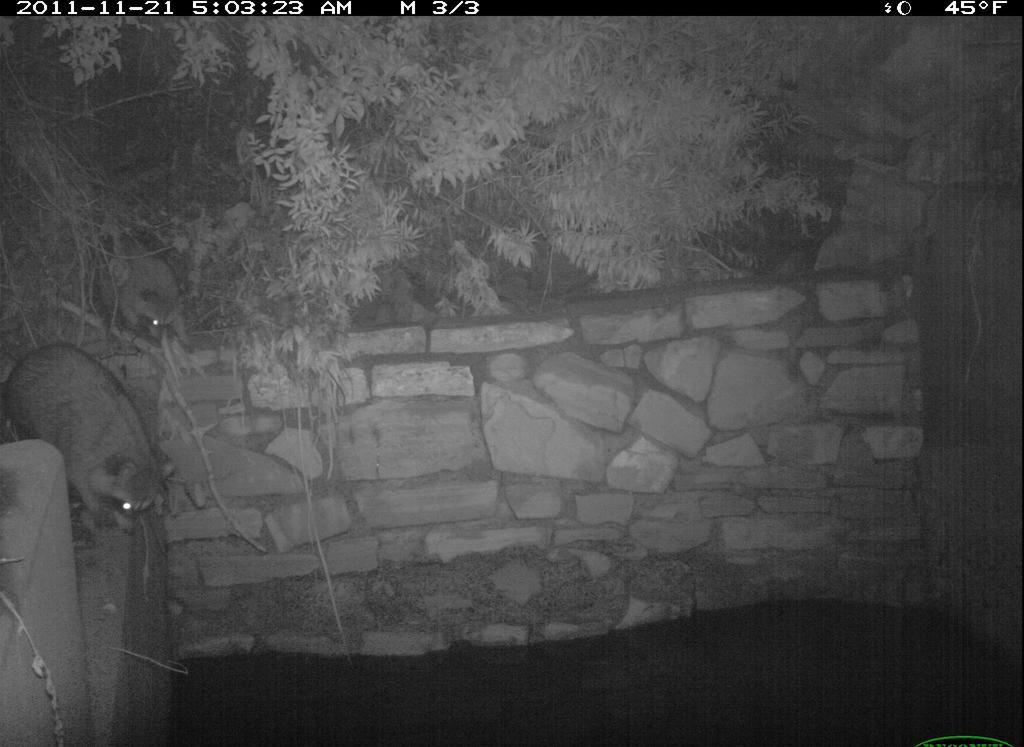raccoon: (9, 339, 173, 546), (94, 212, 198, 364)
